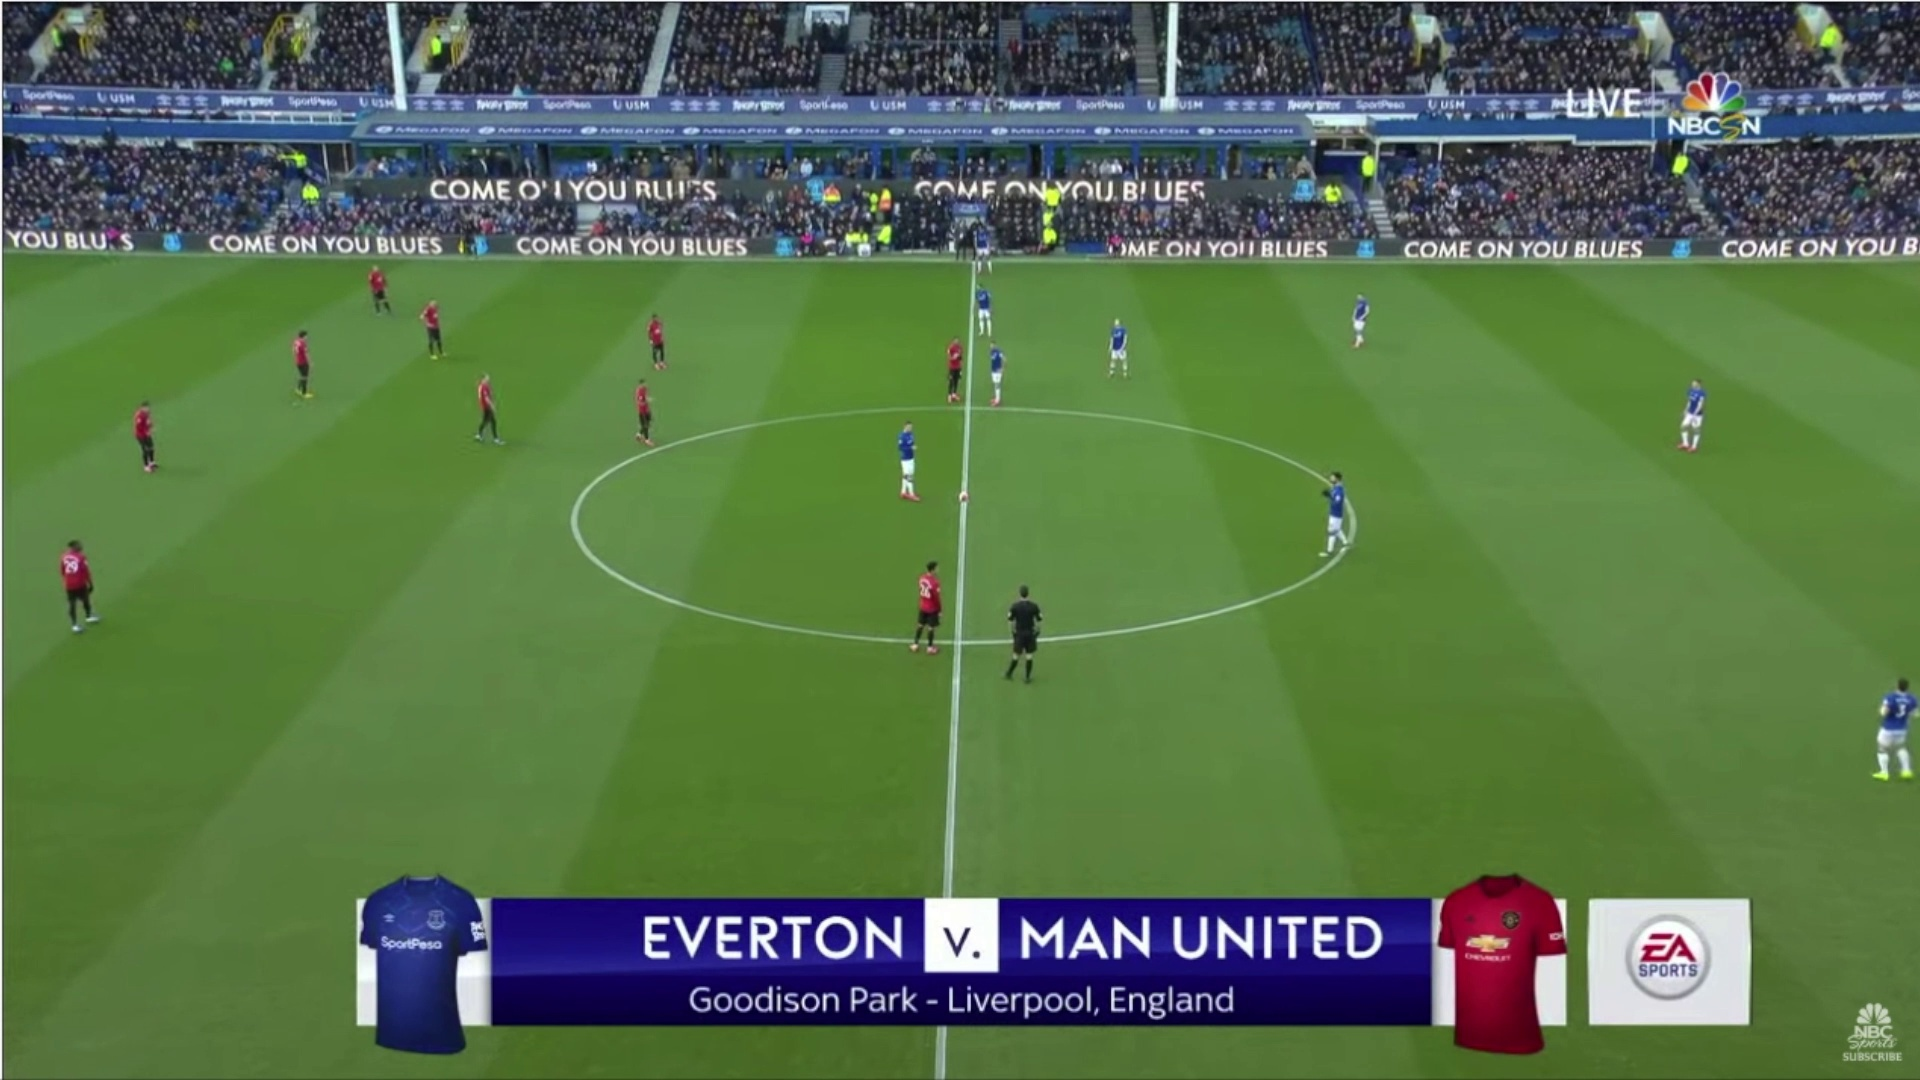ball: (954, 483, 977, 512)
player: (39, 525, 118, 646), (110, 379, 183, 481), (1870, 662, 1920, 809), (262, 300, 329, 408), (620, 375, 683, 471), (456, 363, 518, 456), (1672, 369, 1725, 477), (906, 552, 952, 667), (1093, 304, 1145, 394), (620, 302, 685, 373), (1320, 450, 1356, 573), (414, 281, 460, 371), (897, 404, 933, 512), (1343, 265, 1377, 365), (937, 325, 975, 410), (356, 258, 404, 321), (964, 215, 1006, 279), (962, 283, 1008, 342), (981, 340, 1010, 425)
